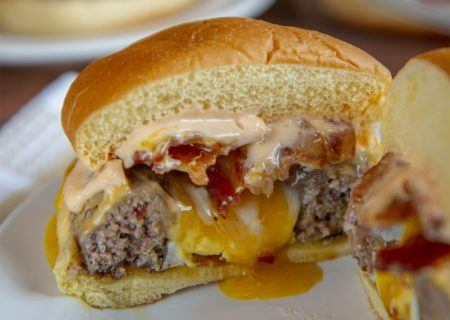hamburger_buns: (58, 13, 390, 144), (30, 211, 150, 311)
